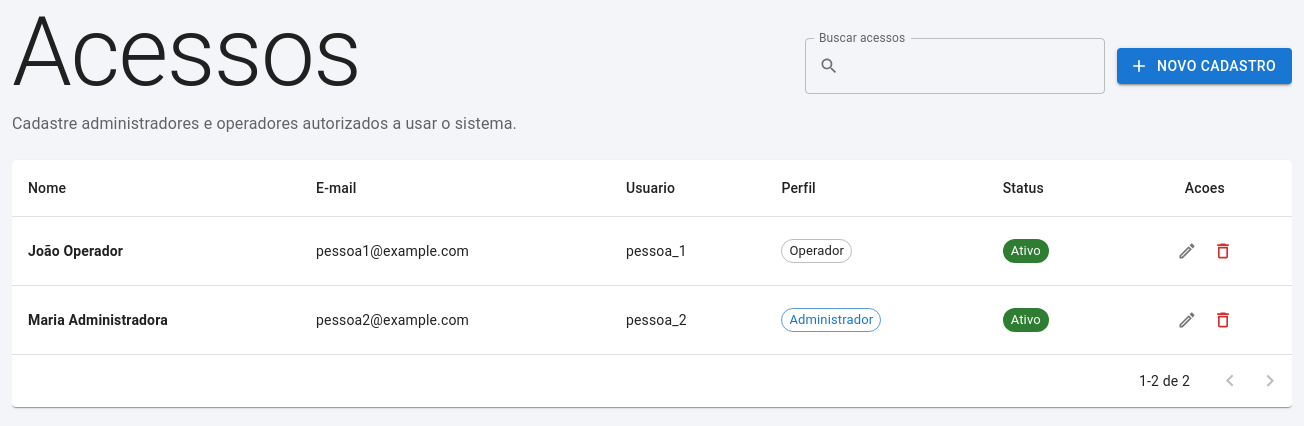
AccessPage › filtra os acessos por nome, usuario e perfil
Check: the text "João Operador" is shown, box [12, 216, 300, 286]
Type "maria admin" into the search field labelled "Buscar acessos" at (976, 66), box [847, 38, 1105, 94]
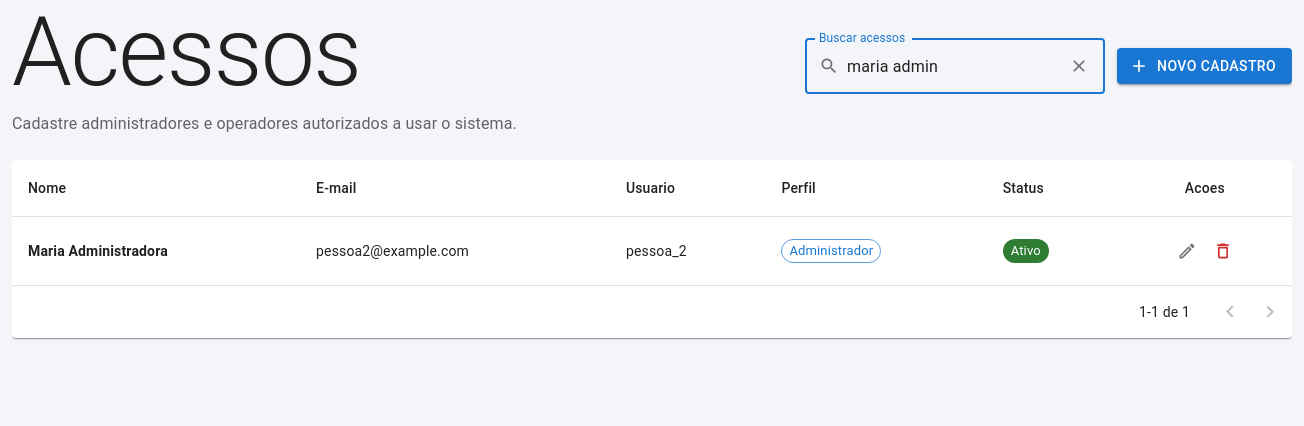
Check: the text "Maria Administradora" is shown, box [12, 216, 300, 286]
Check: the text "João Operador" is gone
